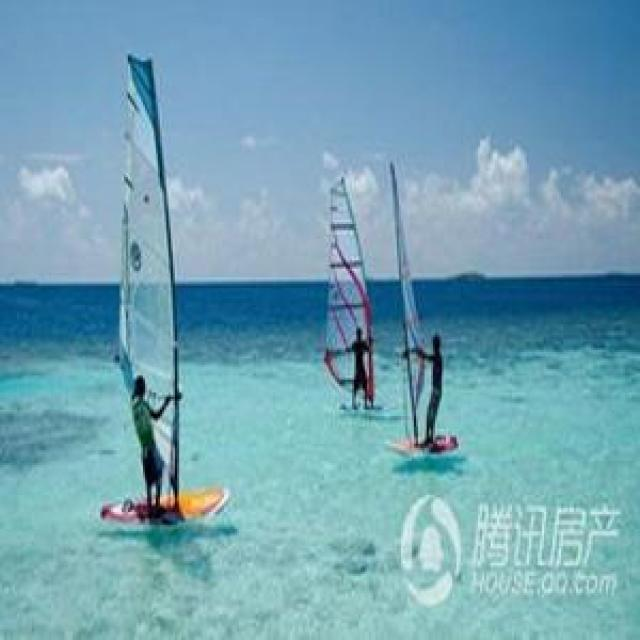sailboat: (72, 55, 232, 531), (363, 159, 466, 461), (304, 179, 392, 417)
